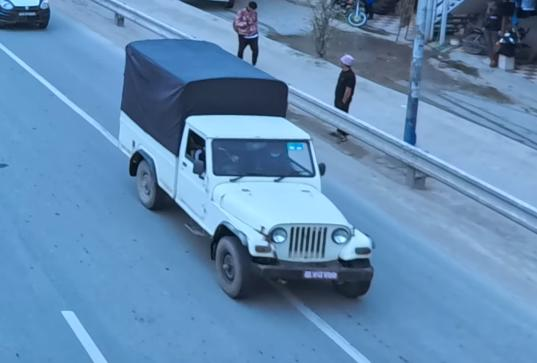car: (0, 0, 55, 34)
transport_vehicle: (116, 32, 383, 307)
